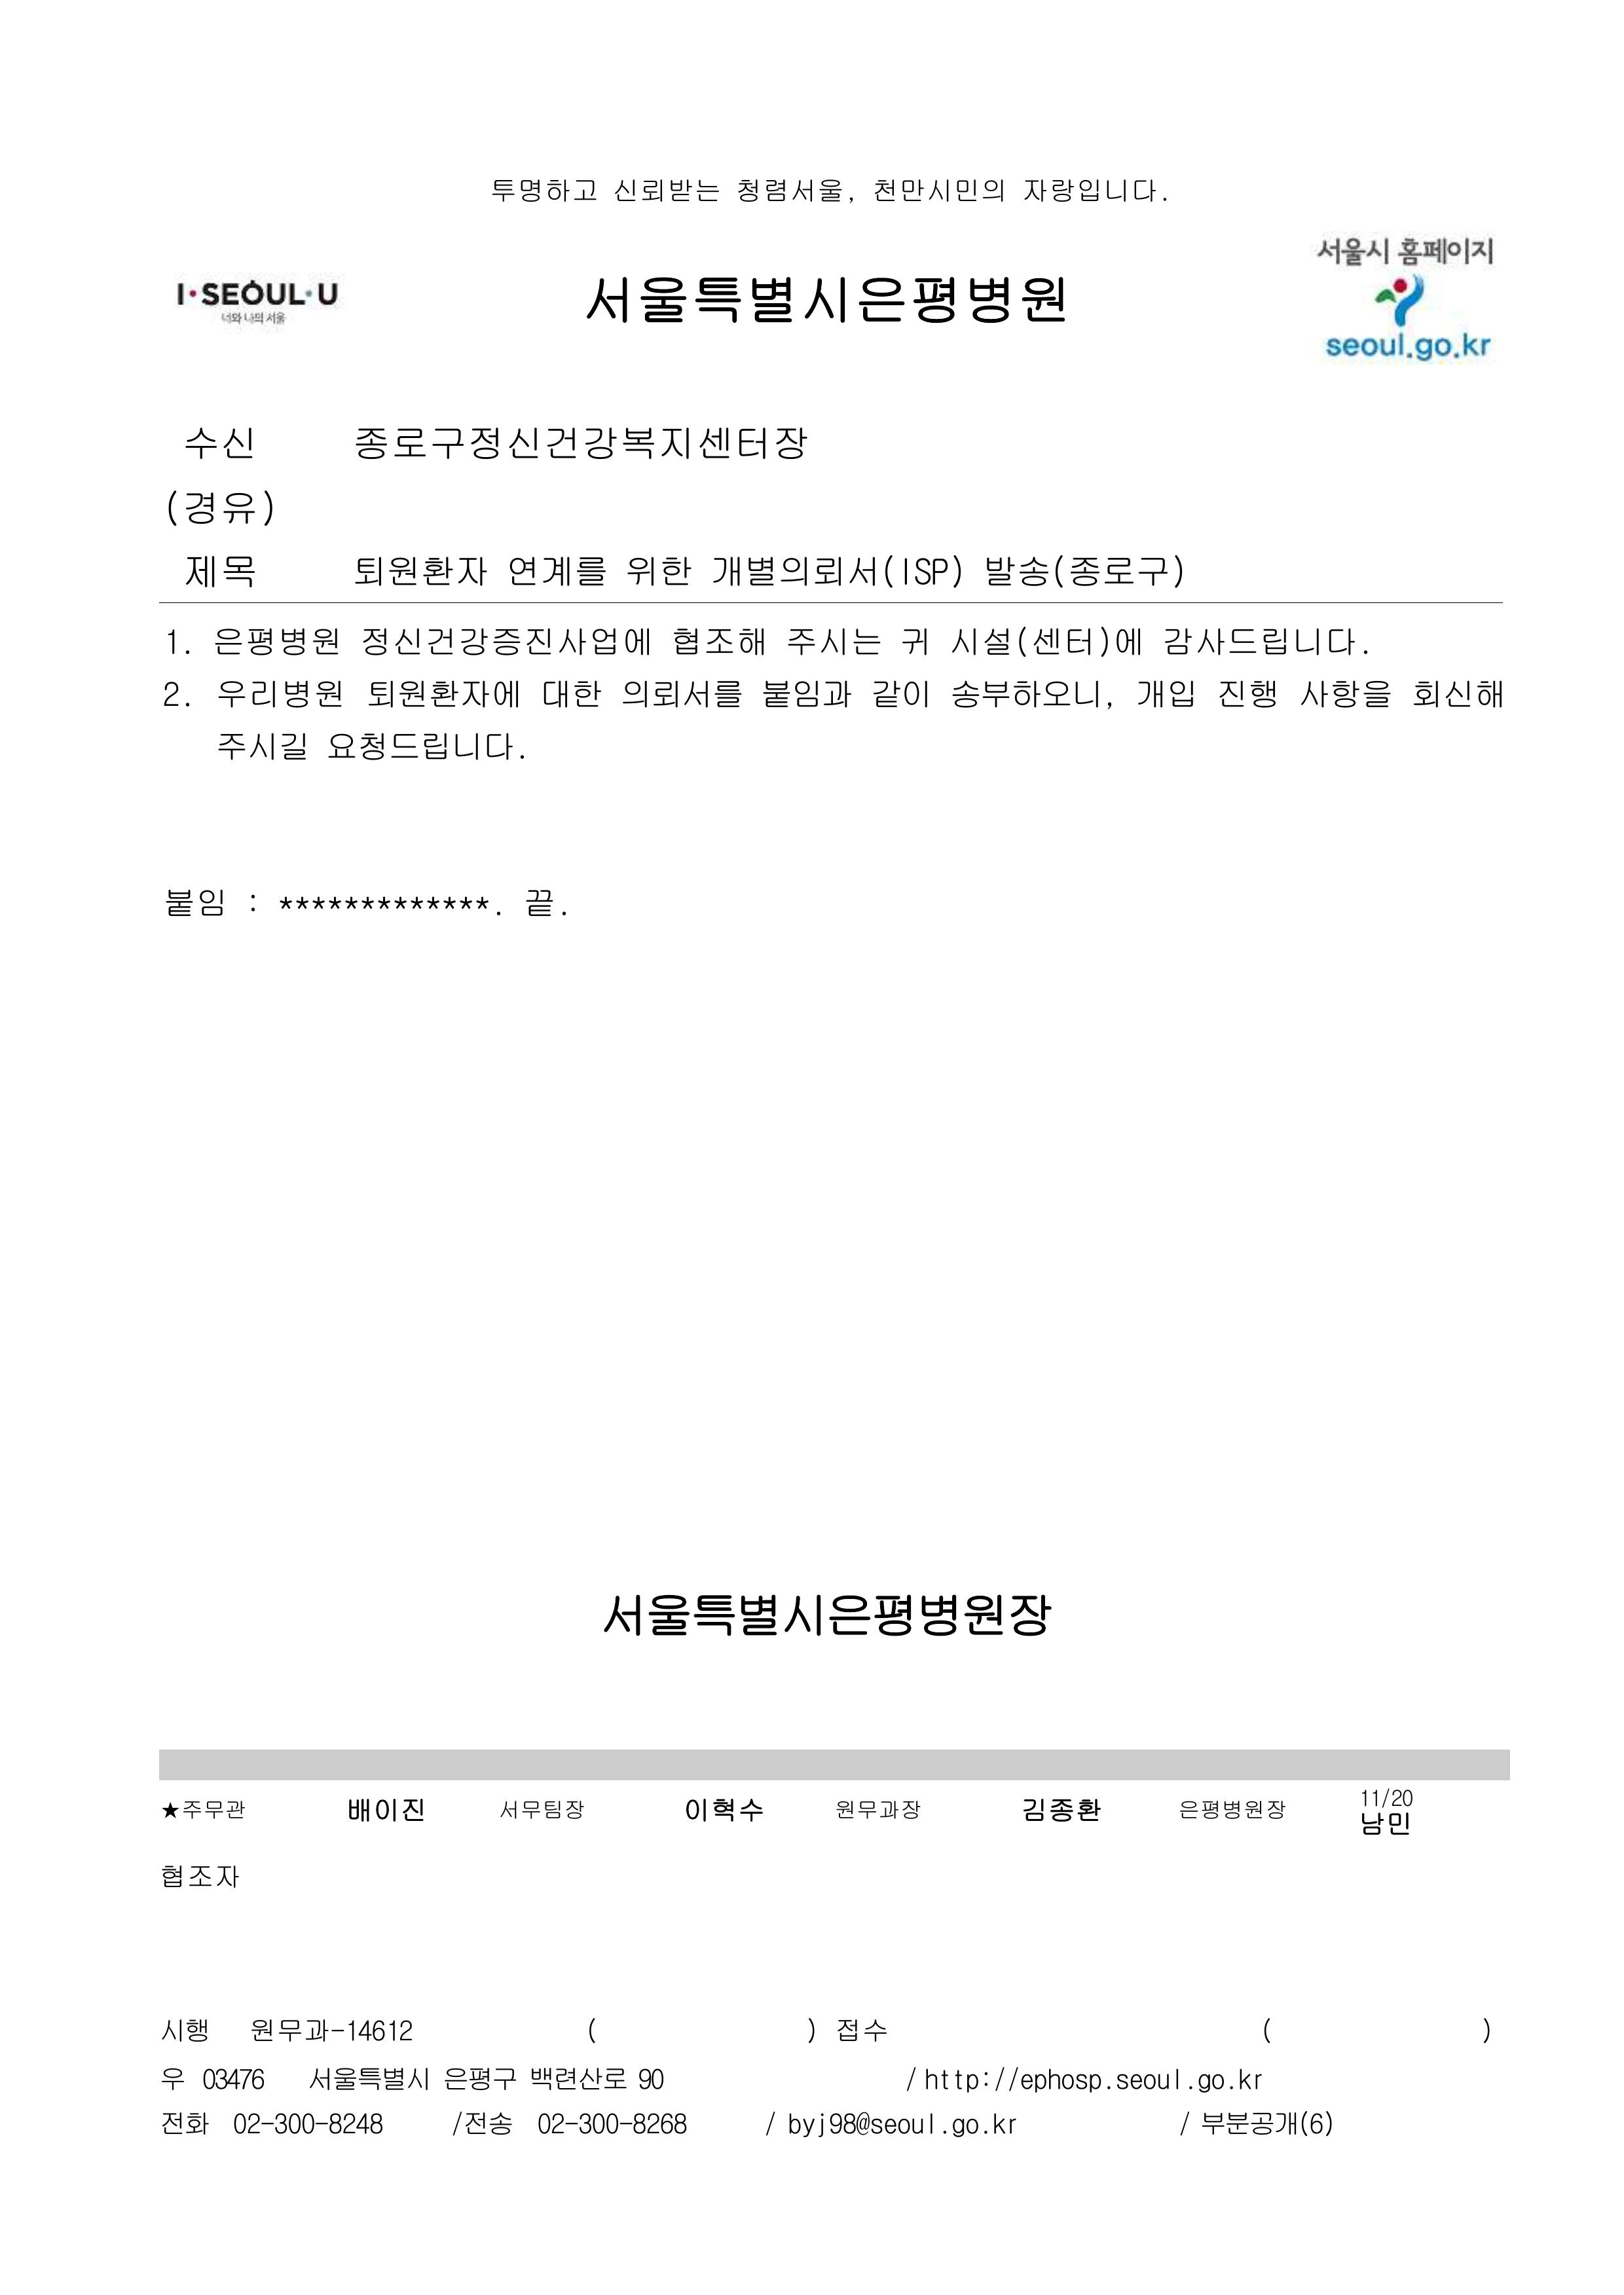t: (580, 269, 1065, 329), (603, 1589, 1055, 1643), (355, 424, 810, 466), (359, 624, 652, 659), (707, 552, 965, 590), (982, 552, 1186, 590), (1162, 624, 1369, 659), (946, 624, 1144, 659), (946, 673, 1116, 713), (327, 728, 520, 763), (366, 673, 524, 710), (162, 487, 279, 534), (172, 276, 341, 308), (352, 552, 490, 589), (1018, 172, 1162, 207), (251, 2019, 417, 2047), (211, 624, 341, 659), (214, 678, 344, 713), (868, 176, 1007, 207), (1197, 2109, 1334, 2140), (304, 2061, 431, 2095), (731, 172, 849, 207), (610, 172, 724, 207), (489, 170, 599, 206), (1390, 232, 1496, 269), (1295, 673, 1390, 713), (620, 678, 742, 710), (232, 2112, 387, 2137), (279, 896, 494, 914), (538, 2112, 689, 2137), (506, 552, 606, 589), (761, 673, 854, 712), (786, 624, 882, 659), (527, 2061, 627, 2095), (671, 624, 766, 659), (214, 728, 308, 763), (1410, 678, 1506, 710), (1313, 232, 1396, 269), (828, 2112, 935, 2140), (183, 424, 255, 462), (183, 552, 255, 590), (156, 1861, 244, 1893), (441, 2061, 520, 2095), (1179, 1799, 1287, 1824), (538, 673, 603, 713), (344, 1792, 427, 1824), (680, 1792, 763, 1824), (1018, 1792, 1100, 1824), (1007, 2068, 1104, 2095), (1411, 337, 1494, 367), (624, 552, 691, 589), (197, 2061, 269, 2095), (1134, 673, 1197, 710), (1323, 334, 1417, 358), (165, 886, 228, 921), (872, 673, 932, 710), (921, 2065, 993, 2095), (499, 1799, 589, 1822), (835, 1799, 924, 1822), (1216, 678, 1280, 710), (1355, 1806, 1413, 1840), (162, 1799, 246, 1822), (448, 2109, 513, 2137), (1116, 2068, 1183, 2095), (780, 2109, 828, 2140), (835, 2019, 886, 2044), (162, 2019, 211, 2044), (162, 2112, 211, 2137), (1362, 1789, 1417, 1810), (524, 886, 555, 921), (896, 624, 928, 655), (634, 2065, 666, 2095), (951, 2116, 982, 2140), (1197, 2072, 1230, 2095), (1237, 2068, 1265, 2095), (165, 682, 186, 710), (990, 2116, 1018, 2137), (169, 631, 190, 655)
